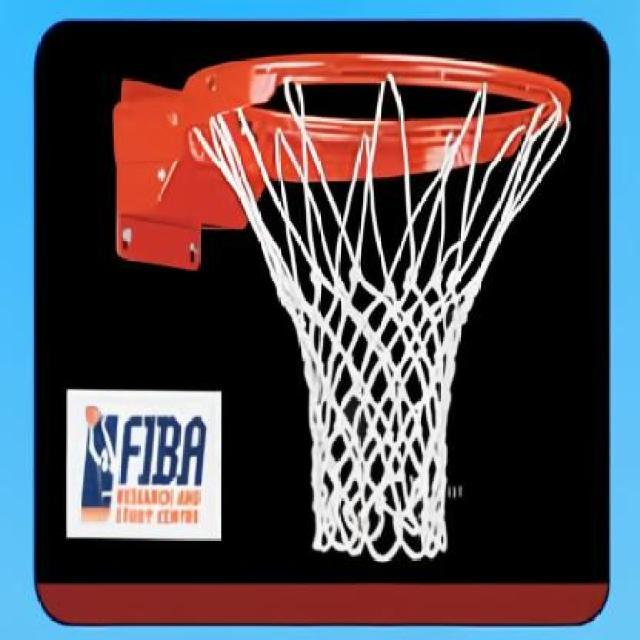rim: (195, 52, 572, 560)
